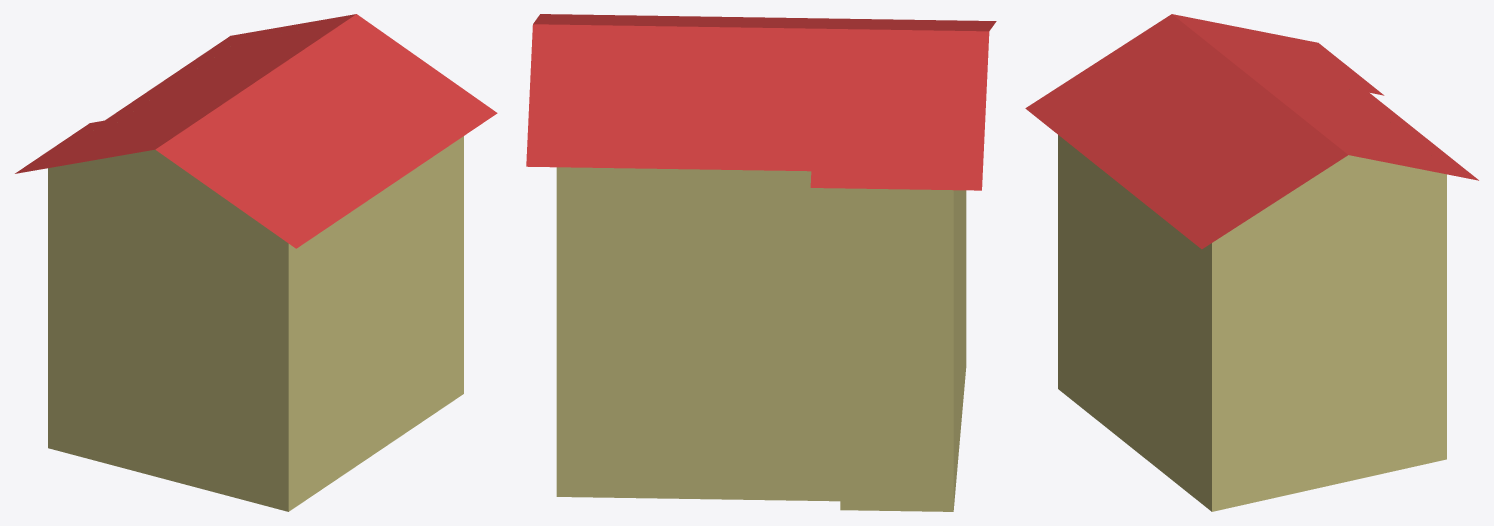
3 renders of one model, left to right at view 1: azimuth 30°, elevation 25°; view 2: azimuth 150°, elevation 25°; view 3: azimuth 270°, elevation 25°, orthographic. The views are drawn at different scales.
Visible parts, largest first — view 1: group_5, group_3, group_4; view 2: group_5, group_3, group_4; view 3: group_5, group_3, group_4.
Boxes of the visible parts, left/top/right/bottom form: group_5: left=48, top=136, right=463, bottom=511; group_3: left=15, top=14, right=497, bottom=248; group_4: left=87, top=14, right=355, bottom=149; group_5: left=556, top=167, right=966, bottom=511; group_3: left=526, top=14, right=996, bottom=190; group_4: left=526, top=24, right=988, bottom=187; group_5: left=1058, top=135, right=1446, bottom=511; group_3: left=1025, top=14, right=1446, bottom=249; group_4: left=1173, top=15, right=1478, bottom=180.
Bounding box in the file's own units: 15.07 × 14.01 × 11.49.
